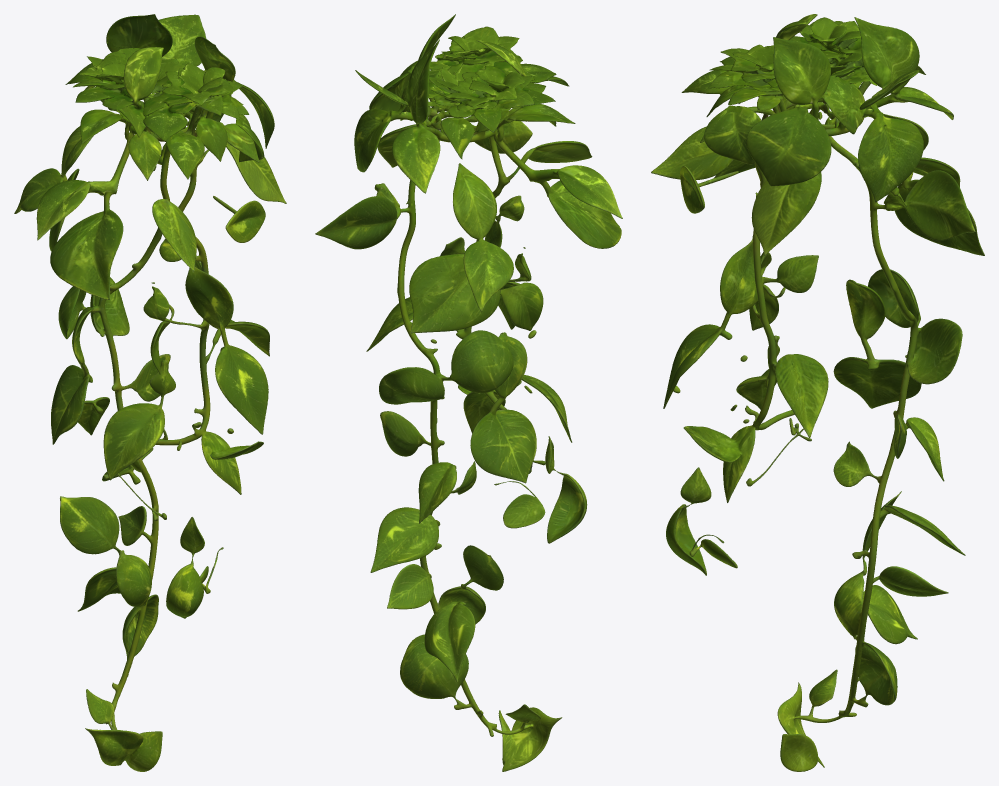
File: vine.glb
The picture shows the model from 3 angles, left to right: view 1: azimuth 30°, elevation 25°; view 2: azimuth 150°, elevation 25°; view 3: azimuth 270°, elevation 25°; orthographic projection. The views are drawn at different scales.
Bounding box in the file's own units: 0.6649 × 1.9 × 0.74.
Materials: 1 (1 with a texture image).
